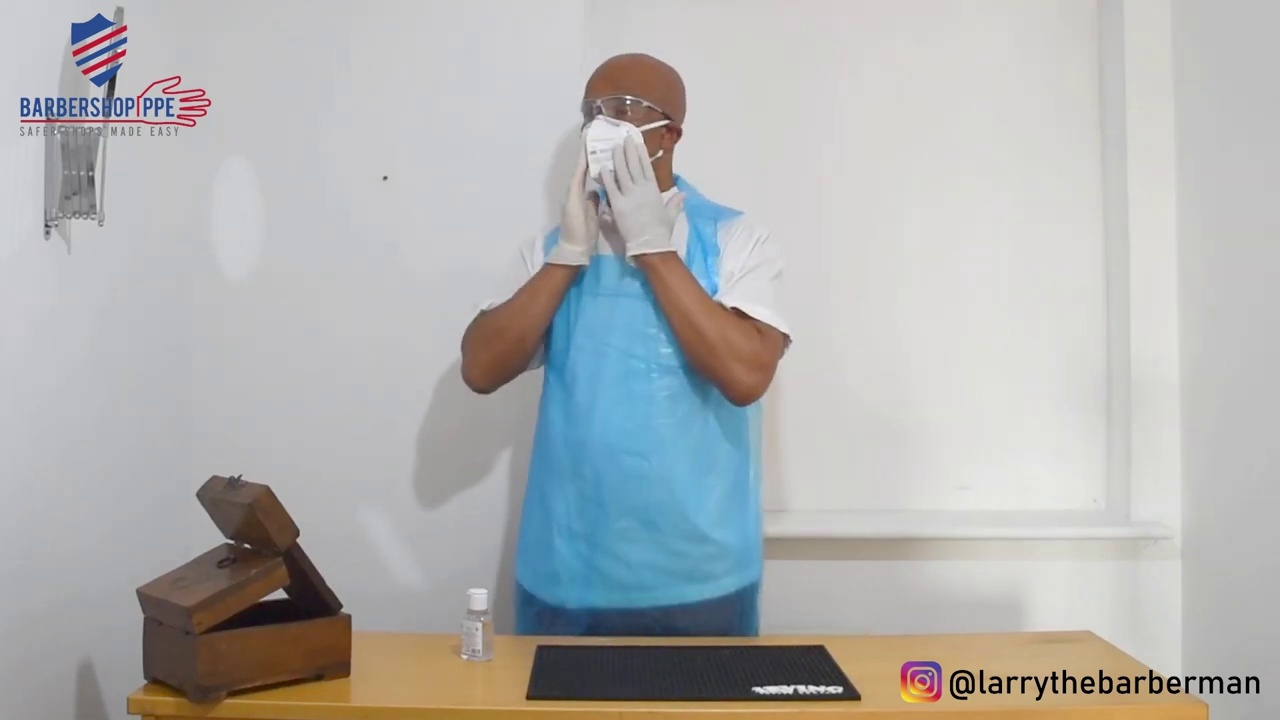Apron: (561, 170, 783, 641)
Glove: (599, 137, 688, 248), (542, 155, 625, 269)
Mask: (564, 110, 673, 181)
No_Hairnet: (580, 34, 691, 91)
